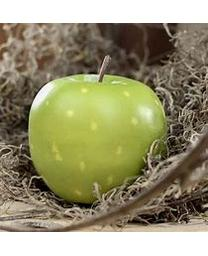apple: (29, 55, 168, 204)
